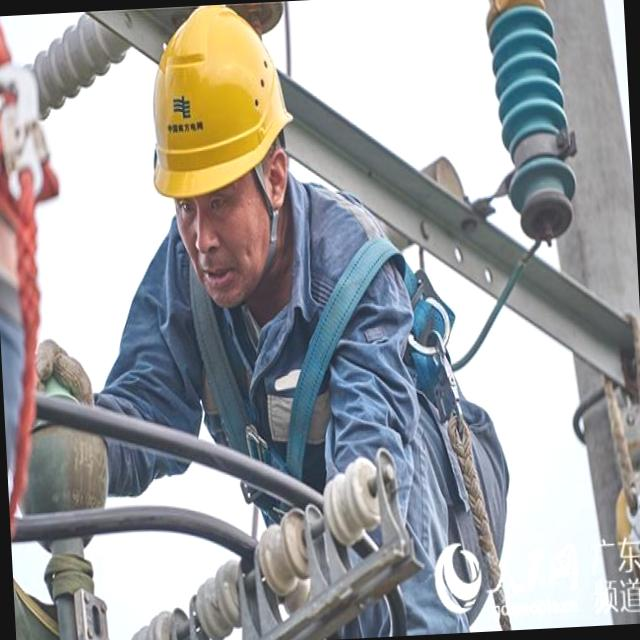helmet: (144, 2, 298, 195)
no-goggles: (170, 170, 280, 232)
no-vest: (200, 246, 412, 578)
